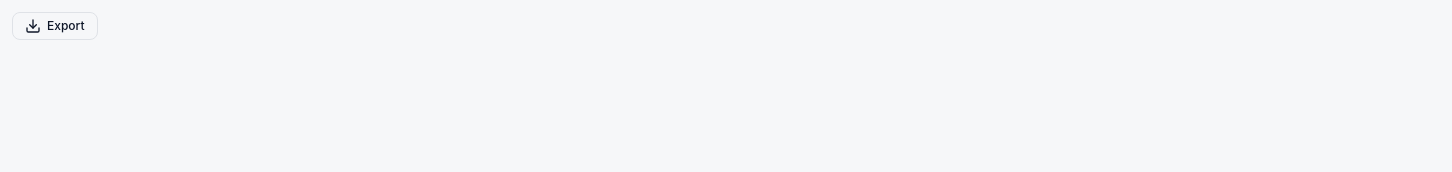
Test case: StudentExportActions — error UI with retry › Retry re-runs the last failed export and clears the alert on success
Click the button "Export".
click(55, 26)  # box [12,12,98,40]
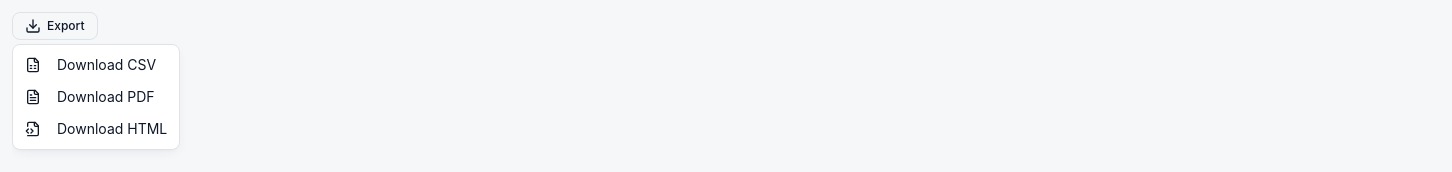
Click the menu item "Download CSV".
click(91, 64)  # box [25,56,156,73]
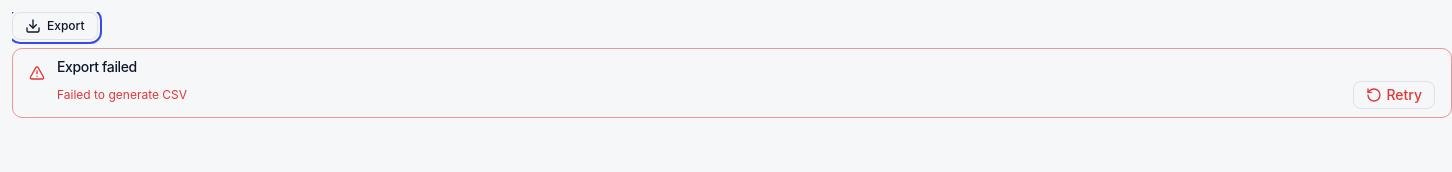
expect the message "Export failed Failed to generate CSV Retry" is shown: met, box [12,48,1451,118]
Click the button "Retry".
click(1394, 95)  # box [1353,81,1435,109]
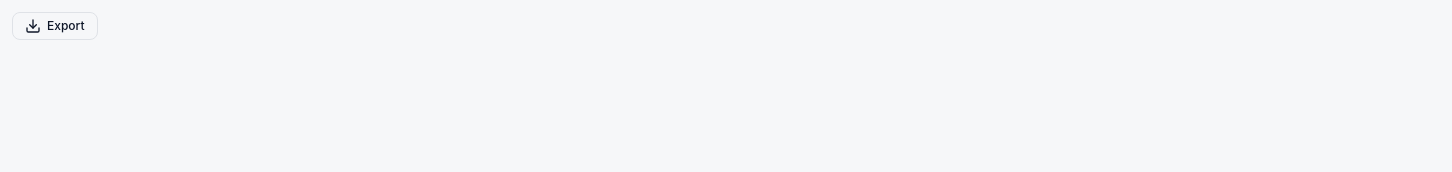
expect the message "Export failed Failed to generate CSV Retry" is gone: met
